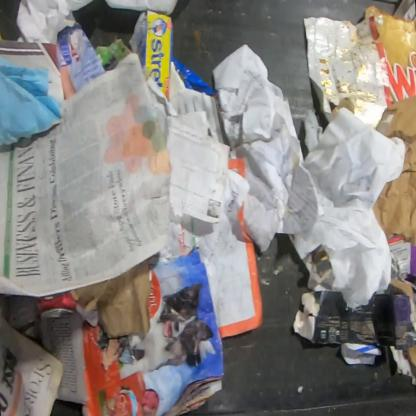cardboard: (292, 277, 415, 387), (136, 10, 219, 100), (69, 256, 151, 339), (372, 95, 416, 248), (363, 4, 416, 107), (0, 38, 66, 102), (312, 246, 328, 264)
metal: (33, 291, 78, 320)
